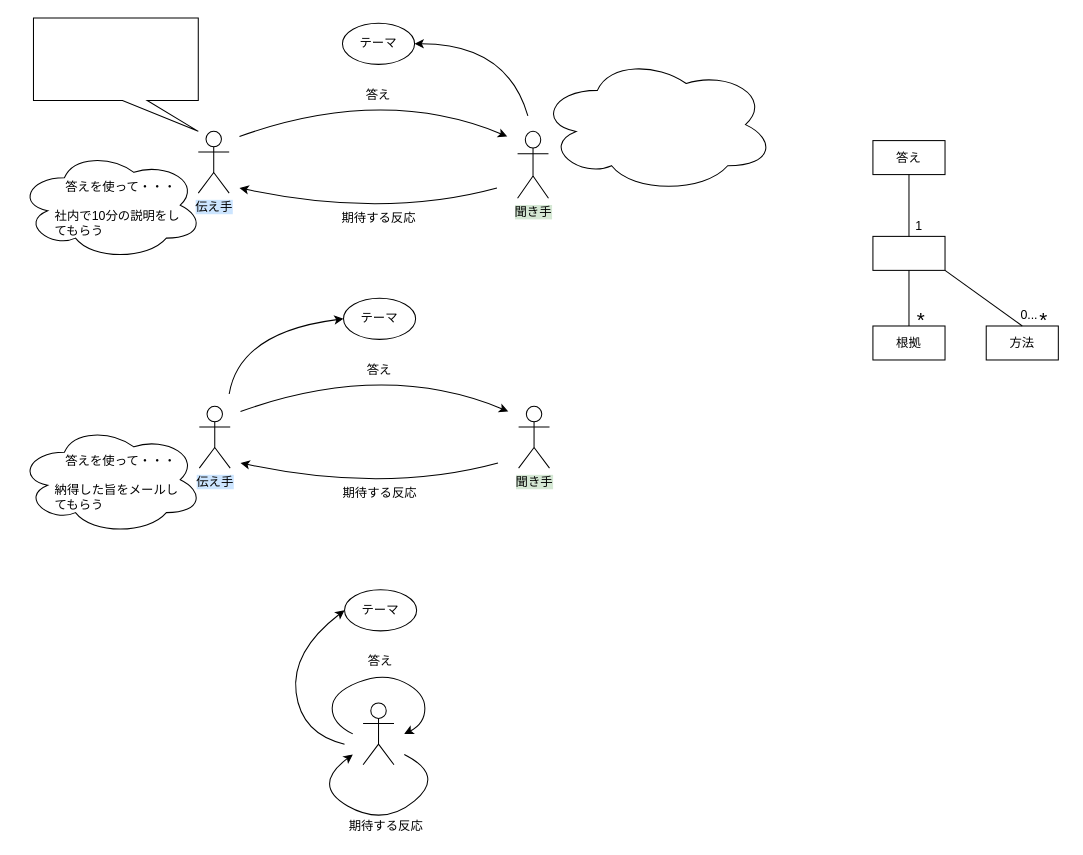
This 1083x855 diagram has some shape labels left out. The centre of each missing label's shape, as x and y in pixels:
"①テーマはなにか。 ②「答え」で聞き手にどんな反応をしてもらいたいか（期待する反応は何か）" belongs at [115,74].
"答えを使って・・・ 理解したい。社内の10分の説明で使いたい。顧客に見せて納得させたい。等・・・・" belongs at [656,124].
"結論" belongs at [908,252].
"自問自答" belongs at [378,733].
